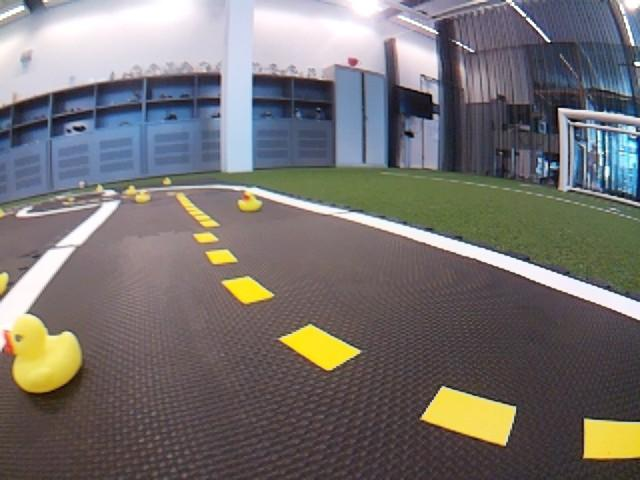Duckies: (6, 315, 82, 393), (236, 191, 264, 211), (0, 271, 7, 300), (136, 190, 151, 202), (124, 185, 138, 195), (96, 184, 104, 192), (163, 178, 171, 185), (0, 208, 5, 219)
